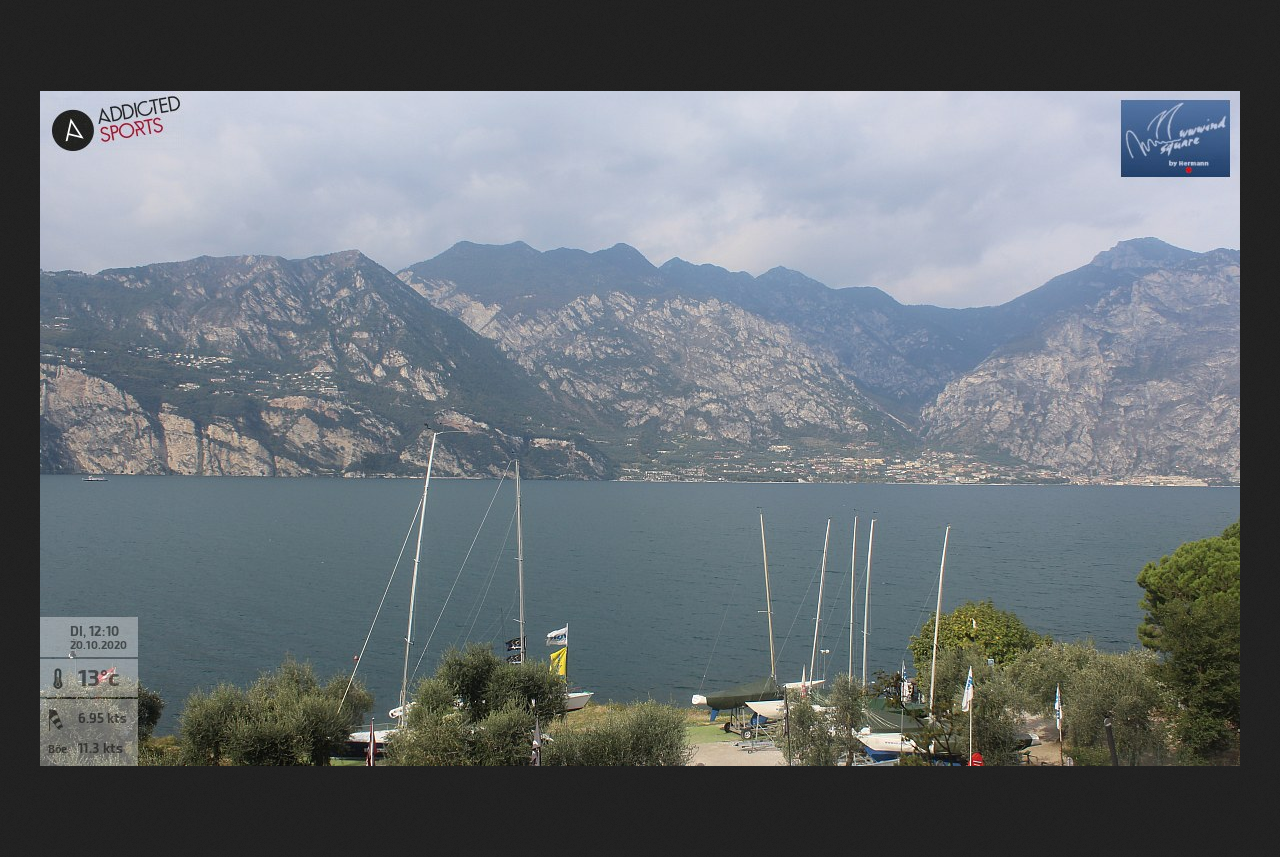no: (957, 659, 974, 715), (1054, 679, 1067, 740)
yes: (548, 625, 569, 647), (505, 635, 528, 649)
